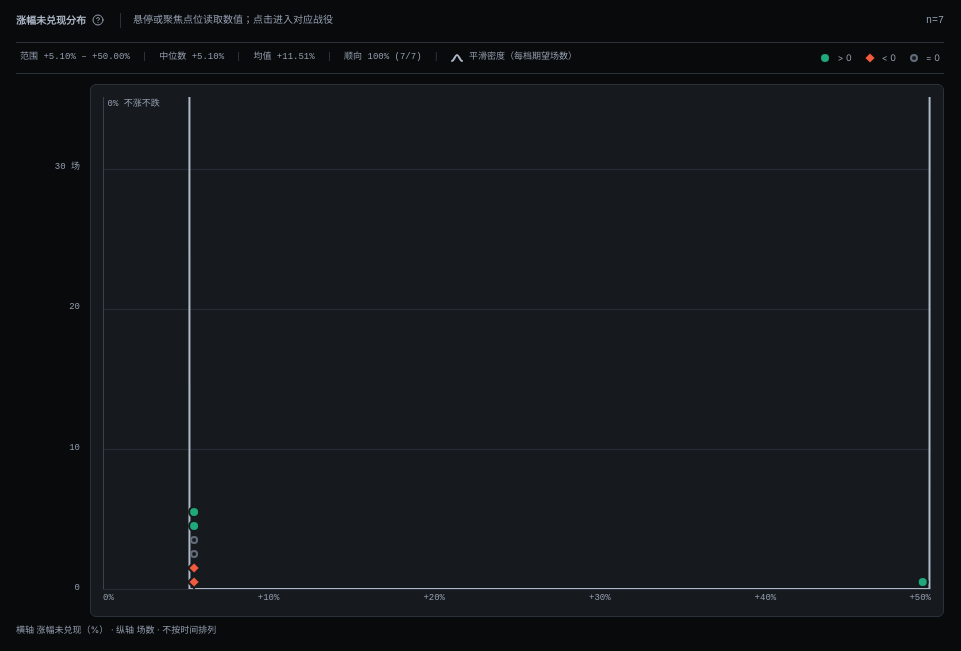
Test: 通用连续指标的分布图 › 涨幅未兑现同一区间内红绿连续分层，盈利在上、亏损在下，保留真实数值与战役点击
This screenshot has width=961, height=651.
Later steps or results of the test are not shown.
Focus the button named "第 2 场，战役 1，涨幅未兑现分布 +5.10% · 盈亏比 -1.00R，操作时间 2023-11-16 06:13". click: (194, 581)
box: left=186, top=574, right=202, bottom=588
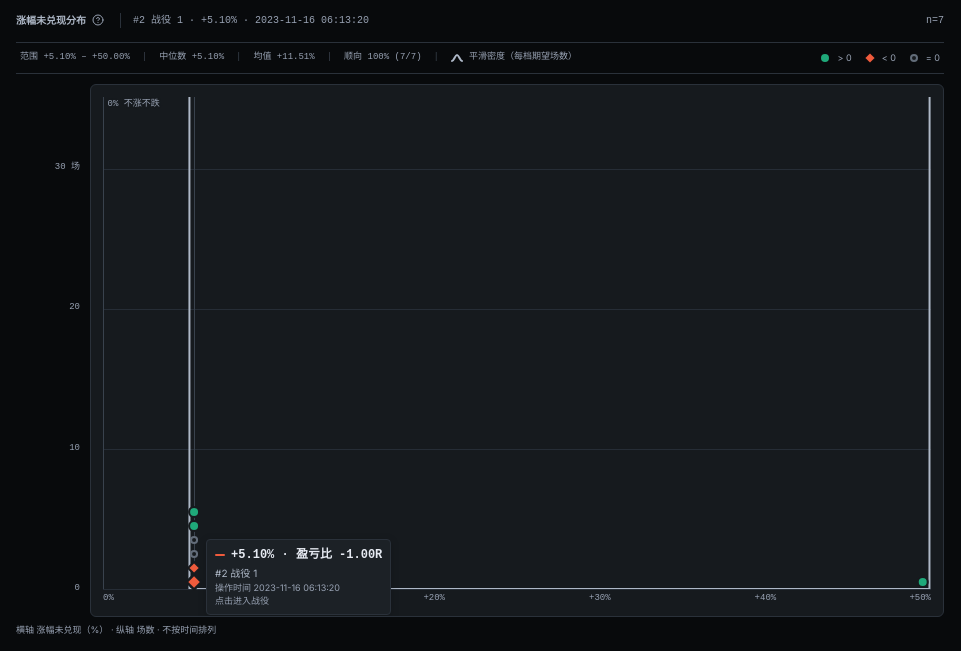
expect the element with test id "chart-tooltip" shows "+5.10% · 盈亏比 -1.00R": met, box left=231, top=548, right=382, bottom=562
